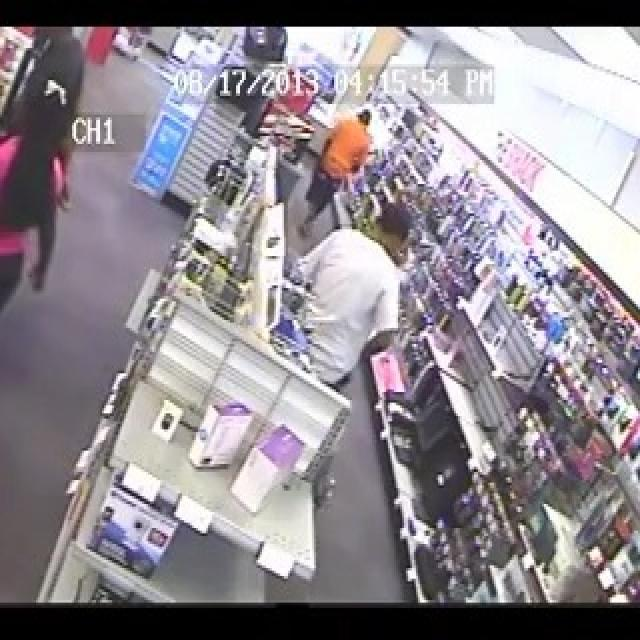normal: (1, 71, 72, 349), (295, 92, 376, 242)
